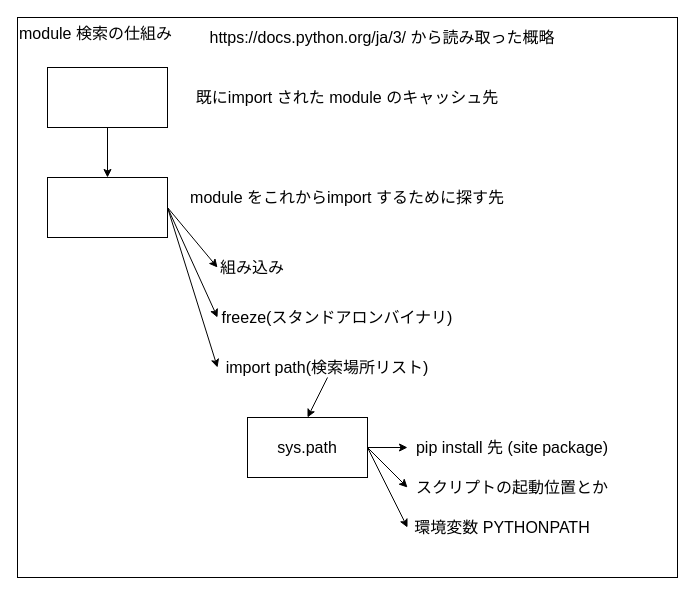
Some shapes in this 695 by 595 pixel diagram are drawn without their labels. The shapes that lost their labels are listed below. From the top down, each one's centre as x and y in pixels, then its label:
At point (107, 97): "sys.module".
At point (107, 207): "sys.meta_path".
